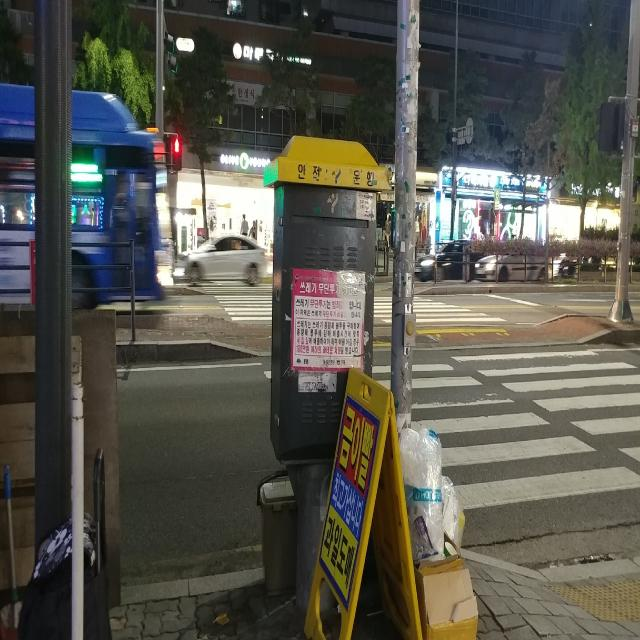빨간불: (171, 131, 183, 166)
횡단보도: (372, 348, 640, 512)
